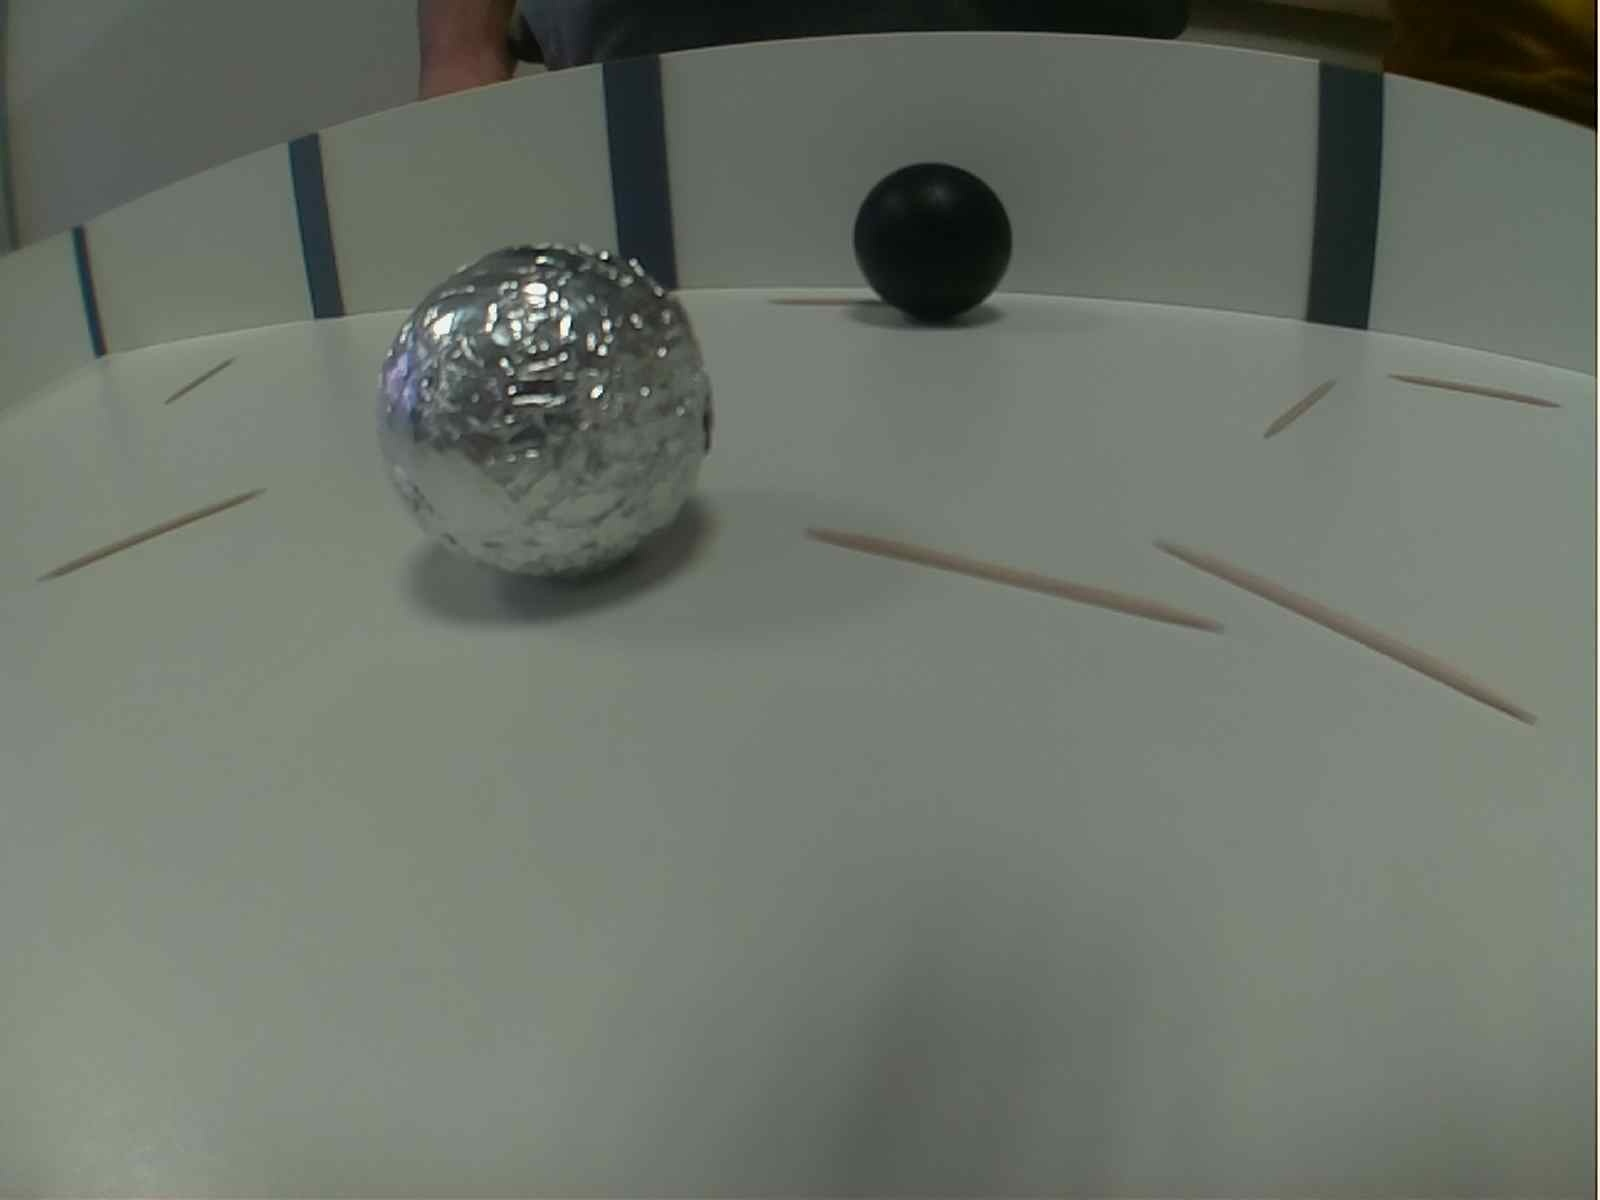bianca: (368, 238, 724, 586)
nera: (847, 158, 1018, 329)
